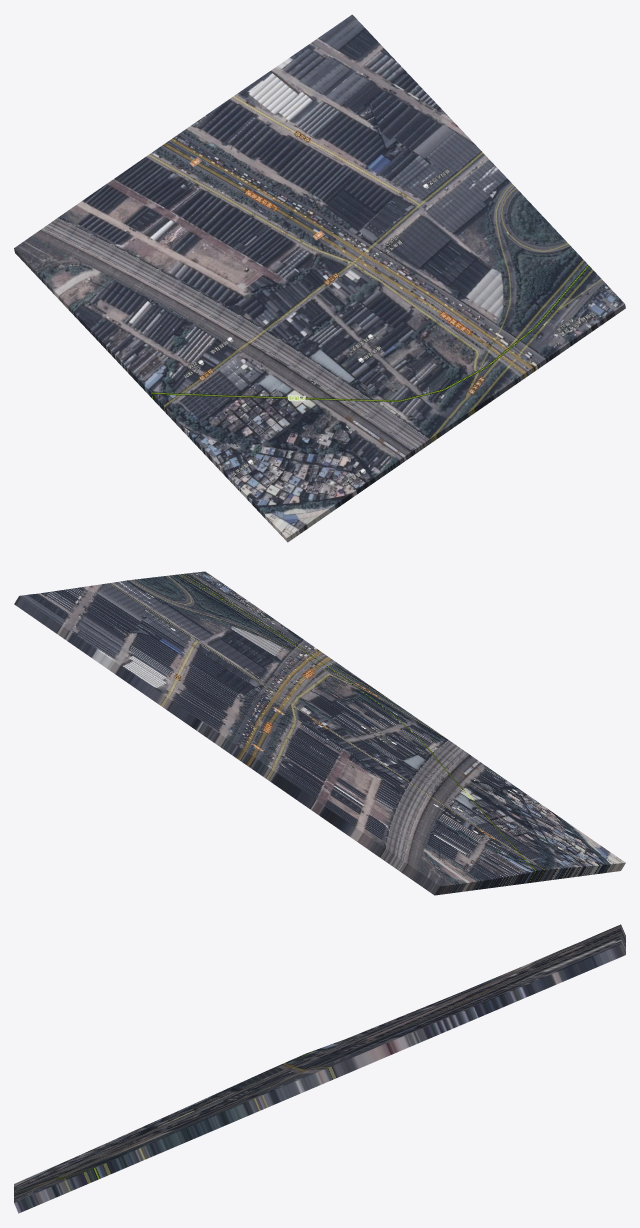
The picture shows the model from 3 angles, top to bottom: view 1: azimuth 30°, elevation 25°; view 2: azimuth 150°, elevation 25°; view 3: azimuth 270°, elevation 25°; orthographic projection. The views are drawn at different scales.
Parts seen in each view (by area): view 1: 0_20_0; view 2: 0_20_0; view 3: 0_20_0.
Part boxes in pixels (<box>): 0_20_0: <box>14,14,625,542</box>; 0_20_0: <box>14,571,625,895</box>; 0_20_0: <box>14,924,625,1213</box>.
Size of the model in its own units: 596 by 436 by 546.
Materials: 1 (1 with a texture image).
